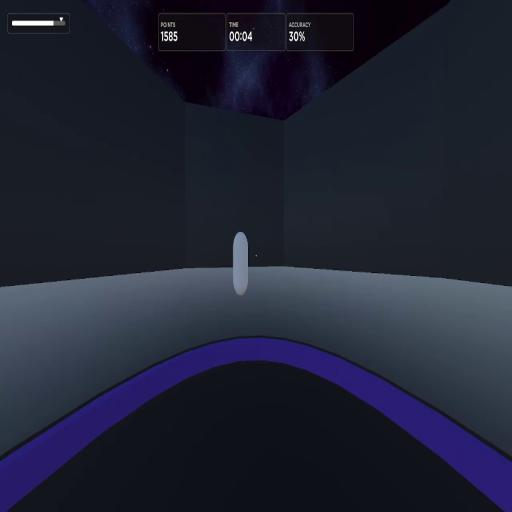Crosshair: (255, 254, 257, 257)
Target: (232, 231, 248, 295)
